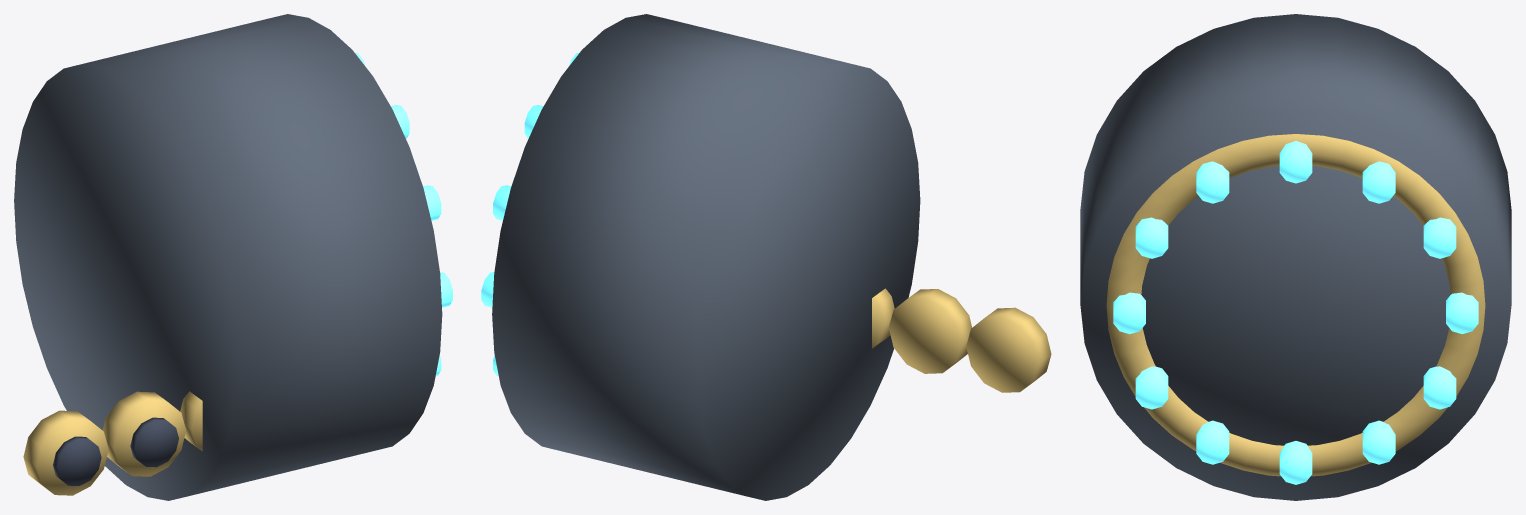
File: 28_L86_SixAxisWristForceTorqueSensor.glb
3 renders of one model, left to right at view 1: azimuth 30°, elevation 25°; view 2: azimuth 150°, elevation 25°; view 3: azimuth 270°, elevation 25°, orthographic. The views are drawn at different scales.
Visible parts, largest first — view 1: L86_SixAxisWristForceTorqueSe_Part_0000, L86_SixAxisWristForceTorqueSe_Part_0003, L86_SixAxisWristForceTorqueSe_Part_0005, L86_SixAxisWristForceTorqueSe_Part_0006, L86_SixAxisWristForceTorqueSe_Part_0004, L86_SixAxisWristForceTorqueSe_Part_0002, L86_SixAxisWristForceTorqueSe_Part_0007; view 2: L86_SixAxisWristForceTorqueSe_Part_0000, L86_SixAxisWristForceTorqueSe_Part_0003, L86_SixAxisWristForceTorqueSe_Part_0005, L86_SixAxisWristForceTorqueSe_Part_0002, L86_SixAxisWristForceTorqueSe_Part_0007; view 3: L86_SixAxisWristForceTorqueSe_Part_0000, L86_SixAxisWristForceTorqueSe_Part_0001, L86_SixAxisWristForceTorqueSe_Part_0002.
Part boxes in pixels (left/top/right/bottom): L86_SixAxisWristForceTorqueSe_Part_0000: left=14, top=14, right=442, bottom=500; L86_SixAxisWristForceTorqueSe_Part_0003: left=23, top=410, right=108, bottom=495; L86_SixAxisWristForceTorqueSe_Part_0005: left=102, top=391, right=185, bottom=476; L86_SixAxisWristForceTorqueSe_Part_0006: left=130, top=417, right=178, bottom=467; L86_SixAxisWristForceTorqueSe_Part_0004: left=53, top=436, right=101, bottom=485; L86_SixAxisWristForceTorqueSe_Part_0002: left=355, top=53, right=452, bottom=375; L86_SixAxisWristForceTorqueSe_Part_0007: left=180, top=391, right=202, bottom=451; L86_SixAxisWristForceTorqueSe_Part_0000: left=492, top=14, right=920, bottom=500; L86_SixAxisWristForceTorqueSe_Part_0003: left=966, top=307, right=1051, bottom=392; L86_SixAxisWristForceTorqueSe_Part_0005: left=888, top=289, right=972, bottom=373; L86_SixAxisWristForceTorqueSe_Part_0002: left=481, top=52, right=579, bottom=375; L86_SixAxisWristForceTorqueSe_Part_0007: left=872, top=288, right=894, bottom=348; L86_SixAxisWristForceTorqueSe_Part_0000: left=1080, top=14, right=1511, bottom=500; L86_SixAxisWristForceTorqueSe_Part_0001: left=1106, top=134, right=1485, bottom=476; L86_SixAxisWristForceTorqueSe_Part_0002: left=1113, top=141, right=1478, bottom=484.
Bounding box in the file's own units: 0.72 × 0.7 × 0.7.
